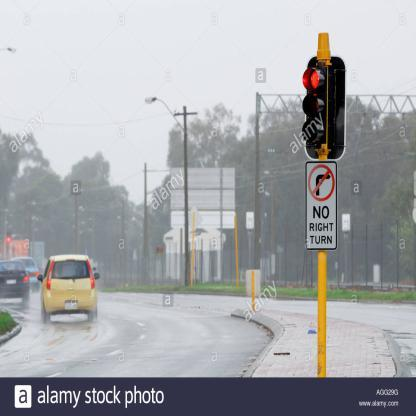Red Light: (305, 58, 329, 159)
